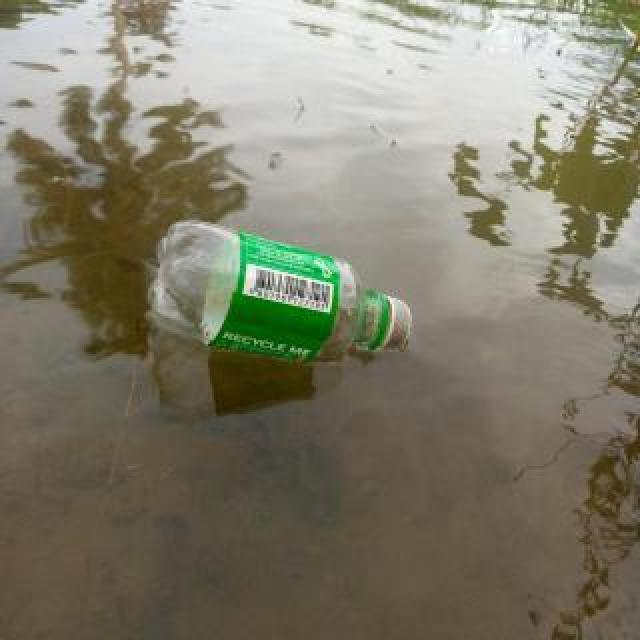bottle: (143, 216, 411, 368)
